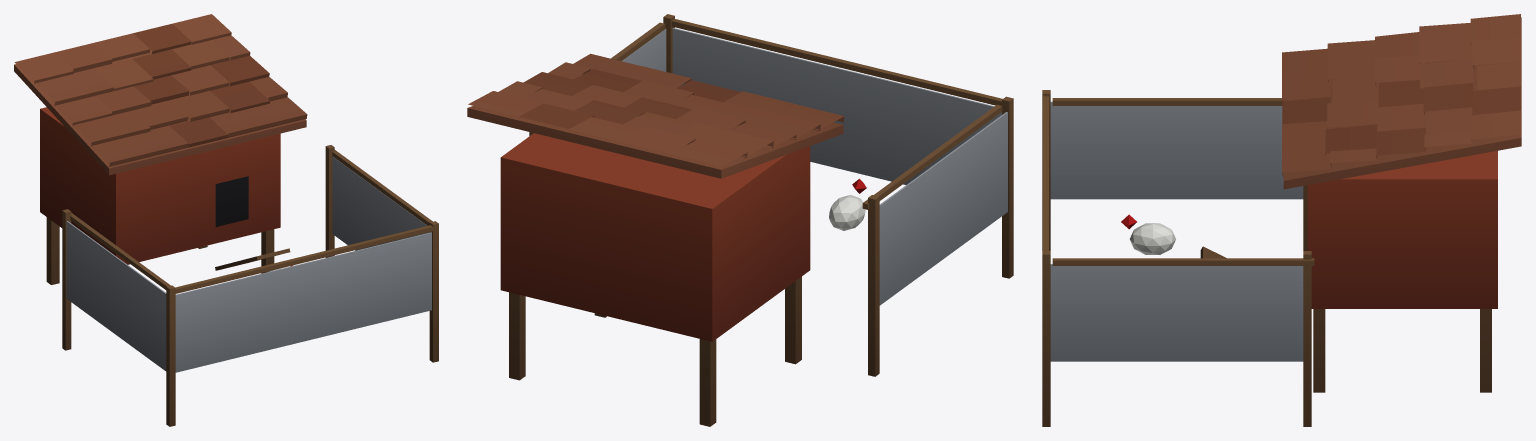
The model's file is Chicken_Coop.fbx.
3 renders of one model, left to right at view 1: azimuth 30°, elevation 25°; view 2: azimuth 150°, elevation 25°; view 3: azimuth 270°, elevation 25°, orthographic. The views are drawn at different scales.
Parts seen in each view (by area): view 1: Chicken_Coop_LOD0; view 2: Chicken_Coop_LOD0; view 3: Chicken_Coop_LOD0.
Part boxes in pixels (left/top/right/bottom): Chicken_Coop_LOD0: left=14, top=14, right=438, bottom=426; Chicken_Coop_LOD0: left=467, top=14, right=1013, bottom=426; Chicken_Coop_LOD0: left=1042, top=14, right=1521, bottom=426.
Size of what is drawn, in the model's own units: 3.29 by 2.51 by 4.03.
Materials: 1 (1 with a texture image).
